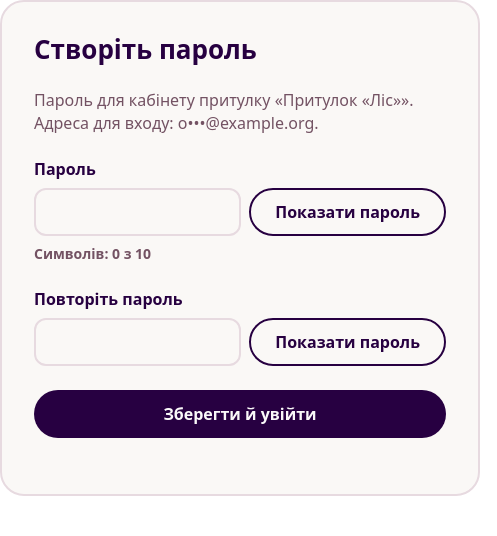
Test case: «Створіть пароль» › too many attempts, and a failed connection: the catalogue's existing sentences
The width and height of the screenshot is (497, 536).
Type "ялинка-під-вікном" into the password field labelled "Пароль" at (138, 212), box left=34, top=188, right=241, bottom=236
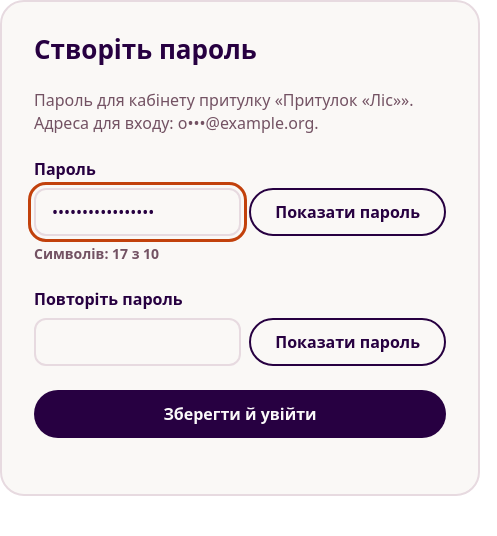
Type "ялинка-під-вікном" into the password field labelled "Повторіть пароль" at (138, 342), box left=34, top=318, right=241, bottom=366
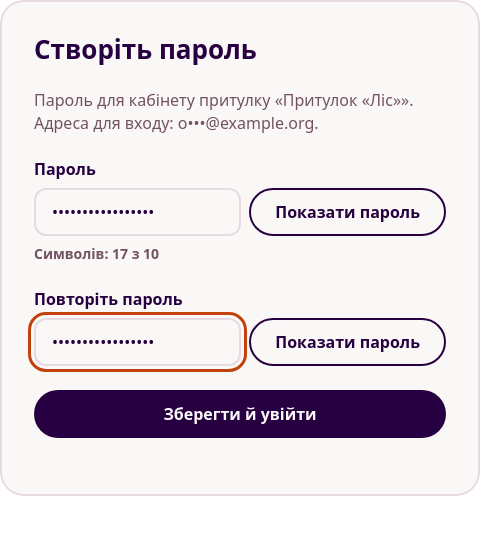
Click the button "Зберегти й увійти" at (240, 414), box left=34, top=390, right=446, bottom=438
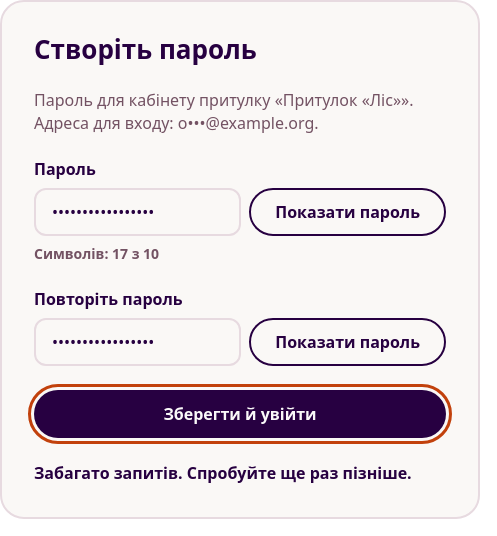
Expected: the message reads "Забагато запитів. Спробуйте ще раз пізніше.", left=34, top=462, right=412, bottom=484
